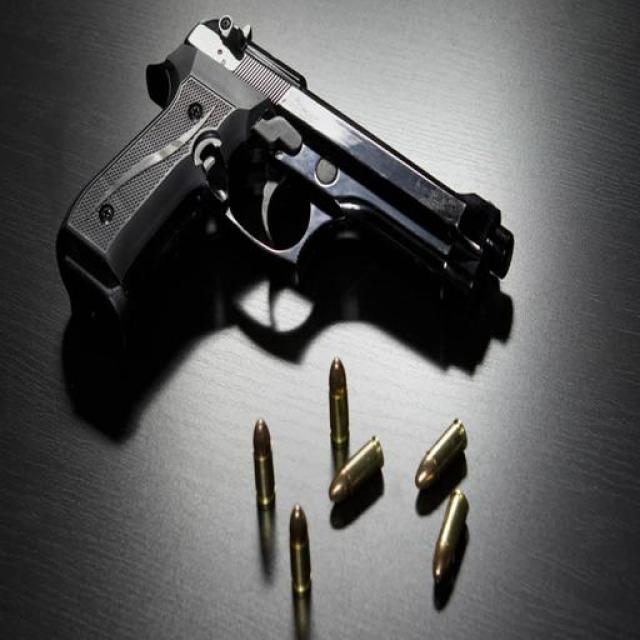pistol: (64, 3, 525, 431)
